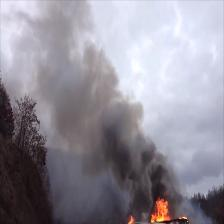fire: (151, 199, 172, 221)
smoke: (32, 5, 91, 115), (61, 117, 151, 161), (114, 163, 175, 198)
